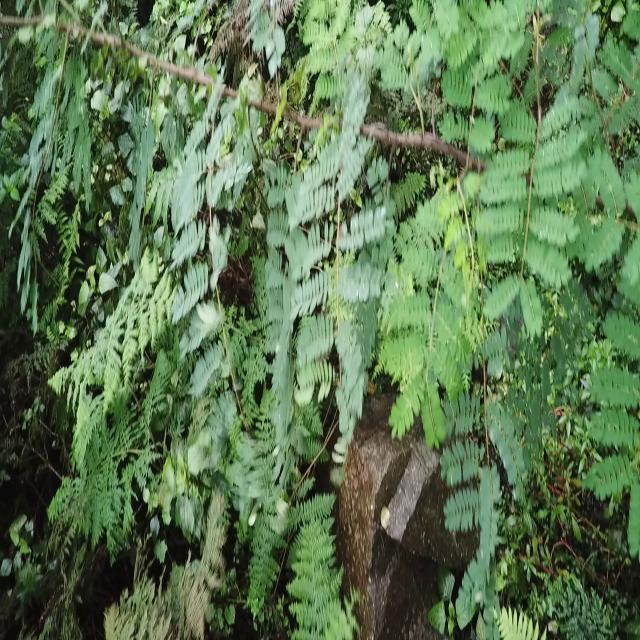Mysore-Thorn-Weed: (0, 0, 627, 283), (450, 189, 514, 608), (591, 306, 638, 499)
